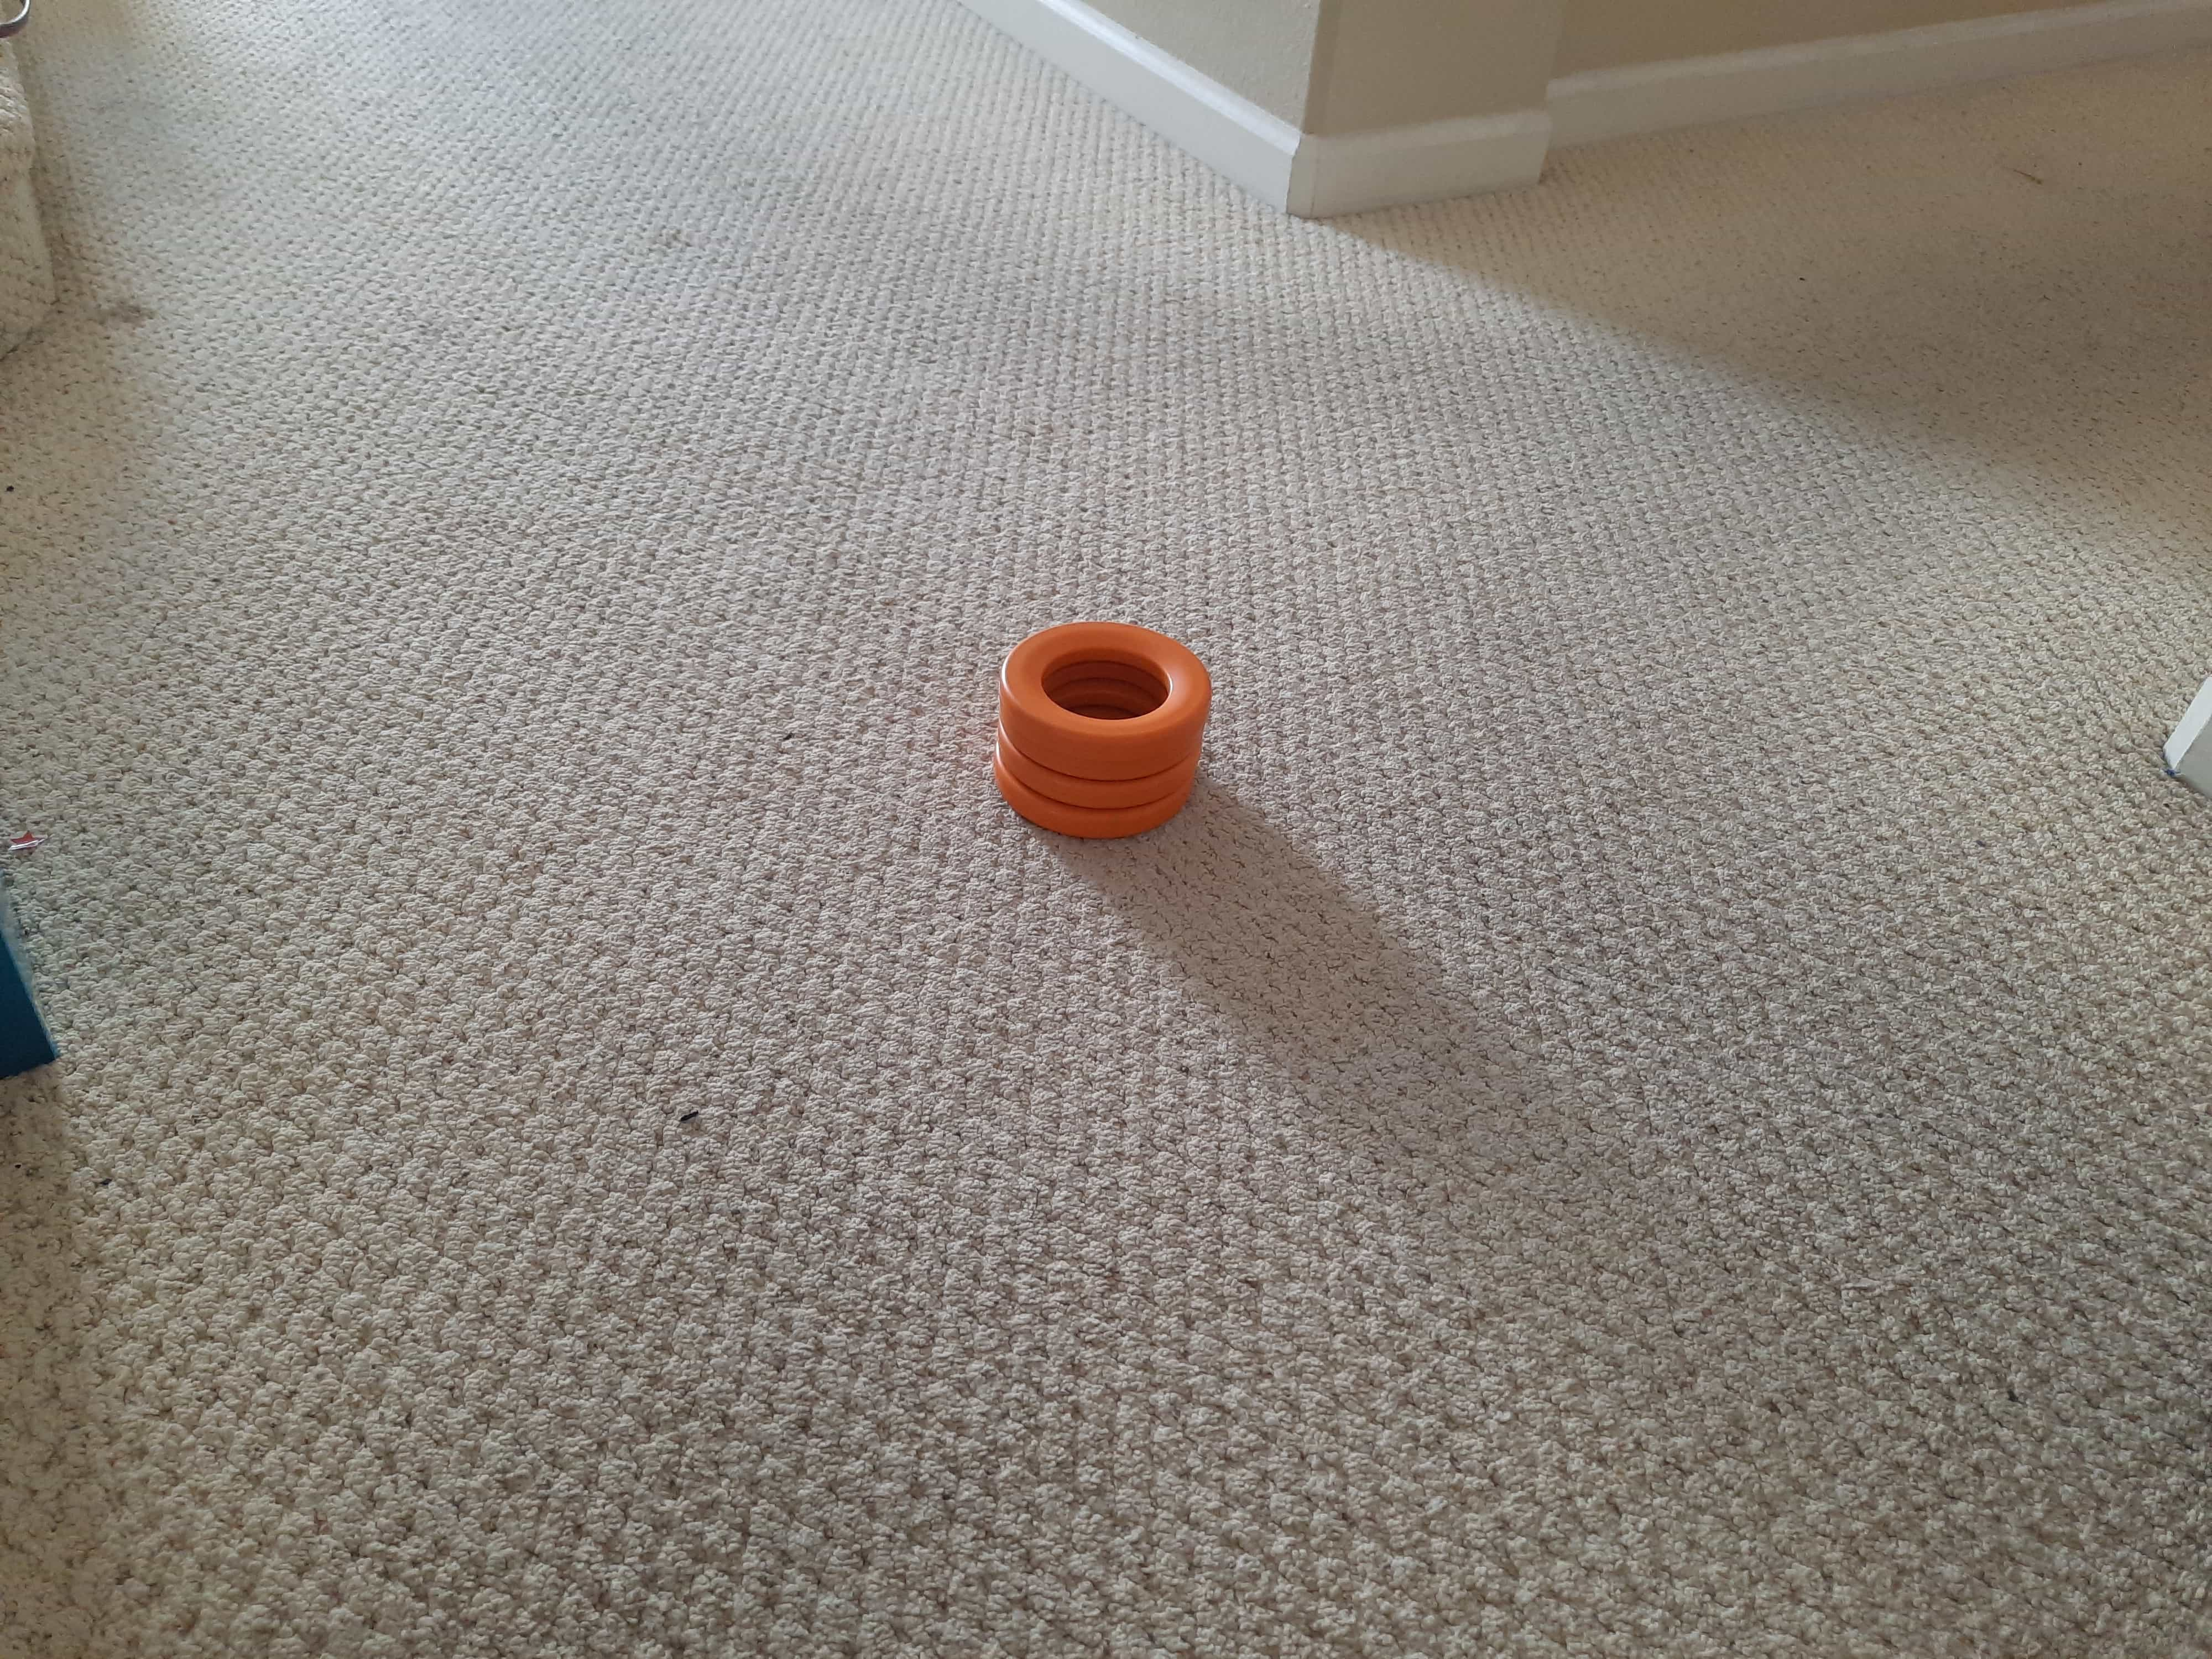FourStack: (1000, 617, 1211, 852)
